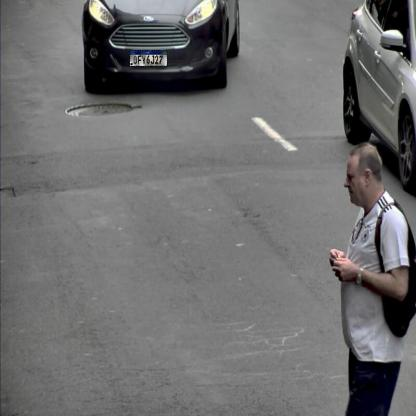PlacaM: (130, 50, 168, 66)
